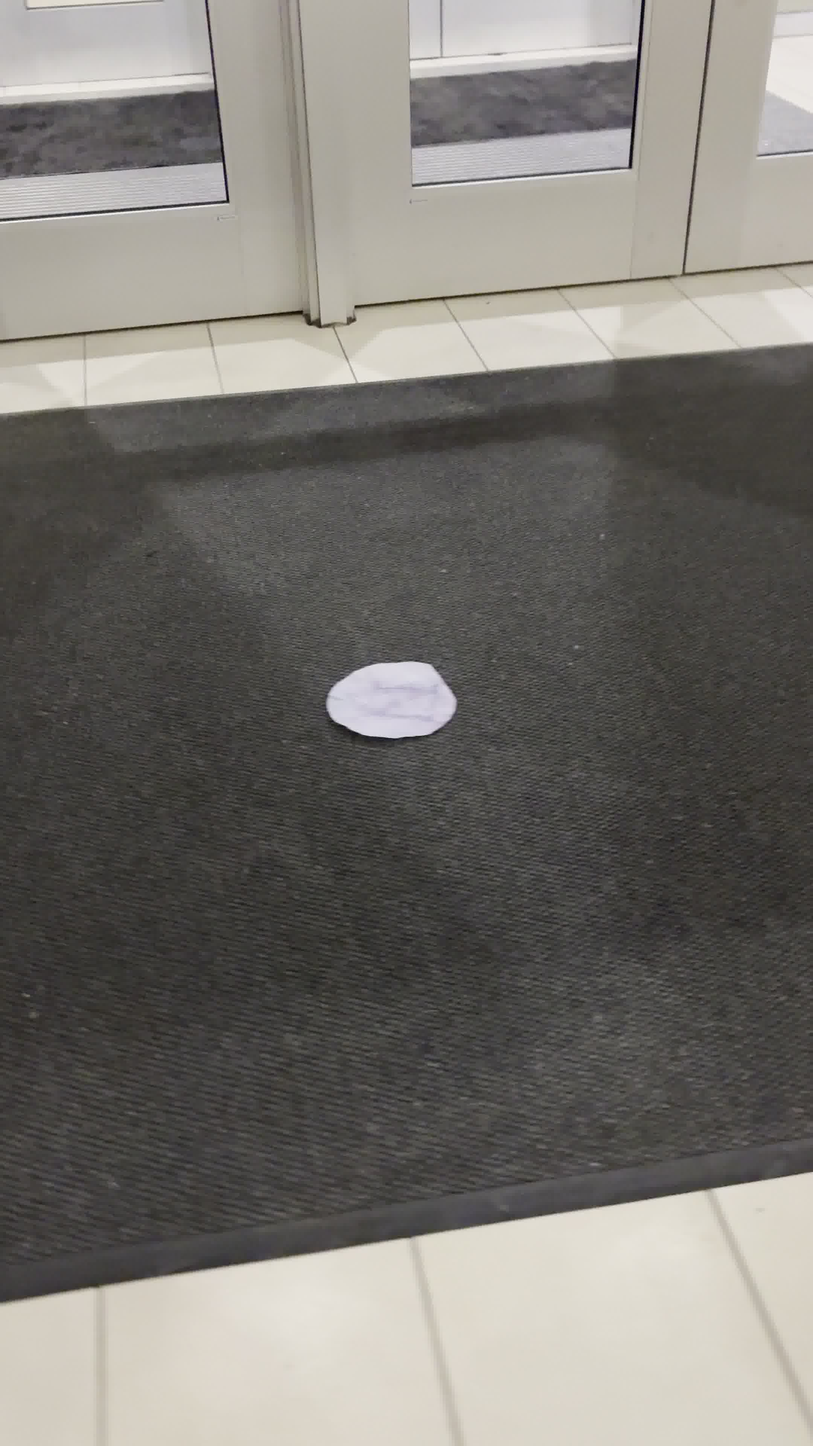Target: (326, 661, 457, 739)
